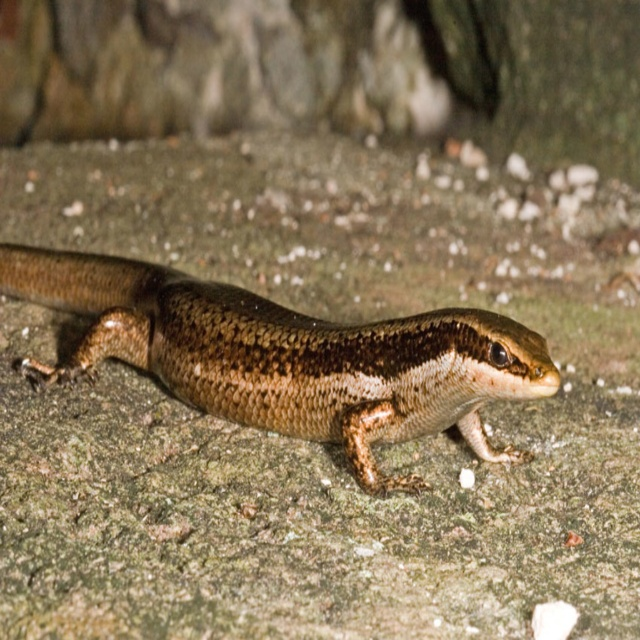Lizard: (0, 241, 561, 500)
